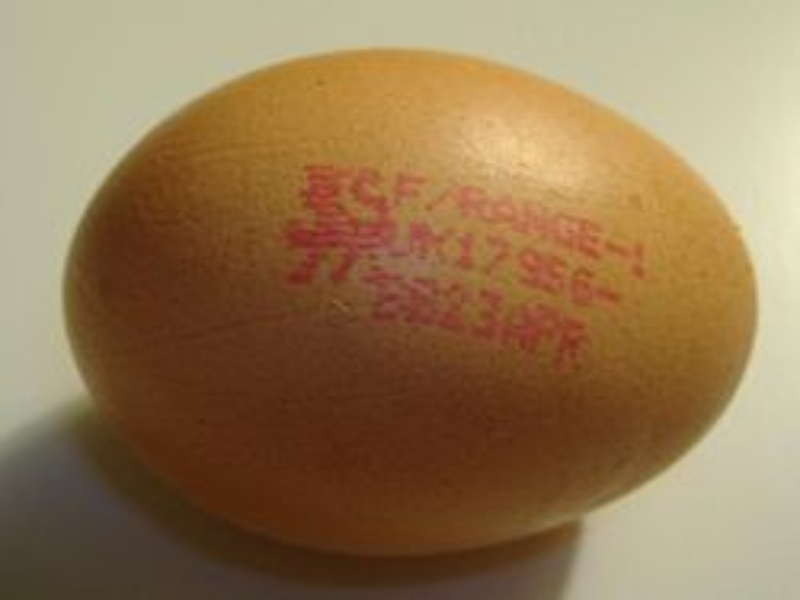Huevo: (62, 48, 759, 557)
